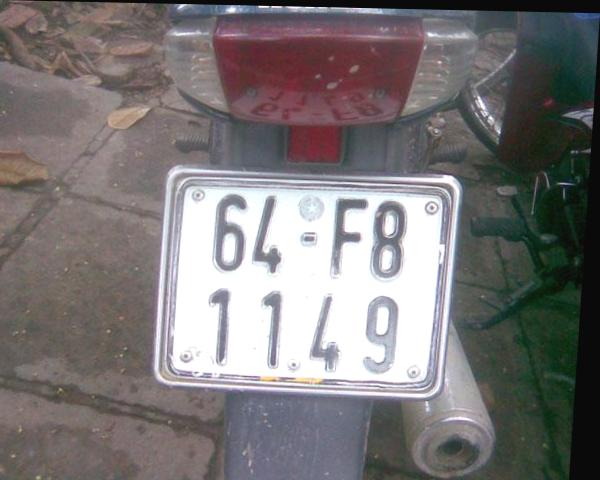License_Plate: (146, 161, 462, 394)
